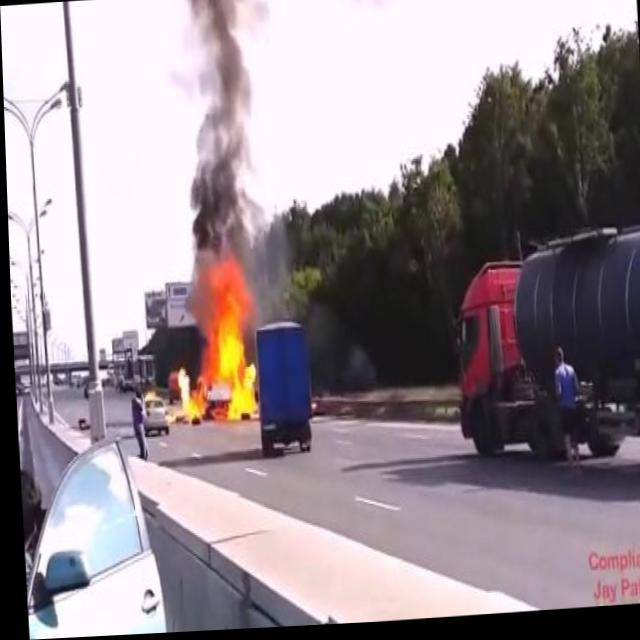fire: (167, 254, 257, 433), (140, 387, 154, 402)
